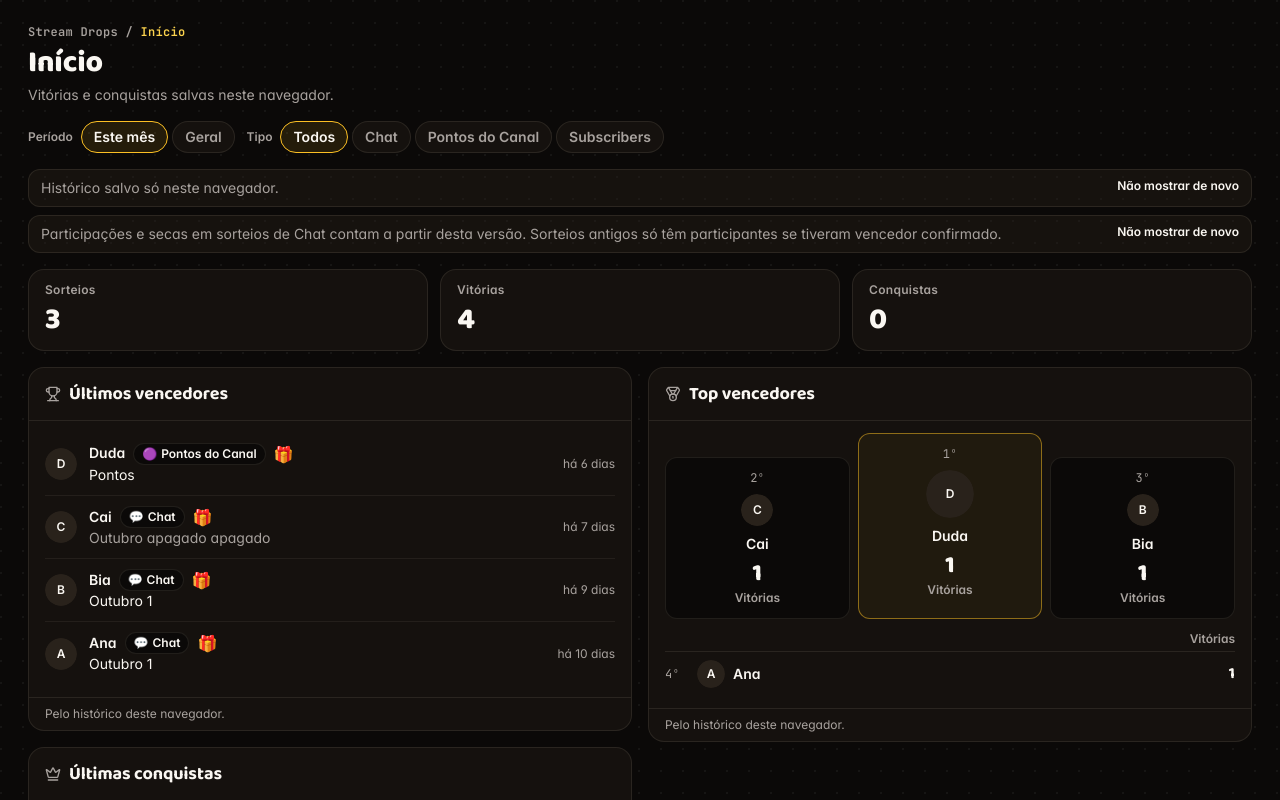
Dashboard v1 › CA-D49: o resumo respeita mês, geral e exclusão
expect the link "Duda" below "Últimos vencedores" is shown: met, box [89,443,125,464]
Click the button "Geral" at (203, 136), box [172,120,235,152]
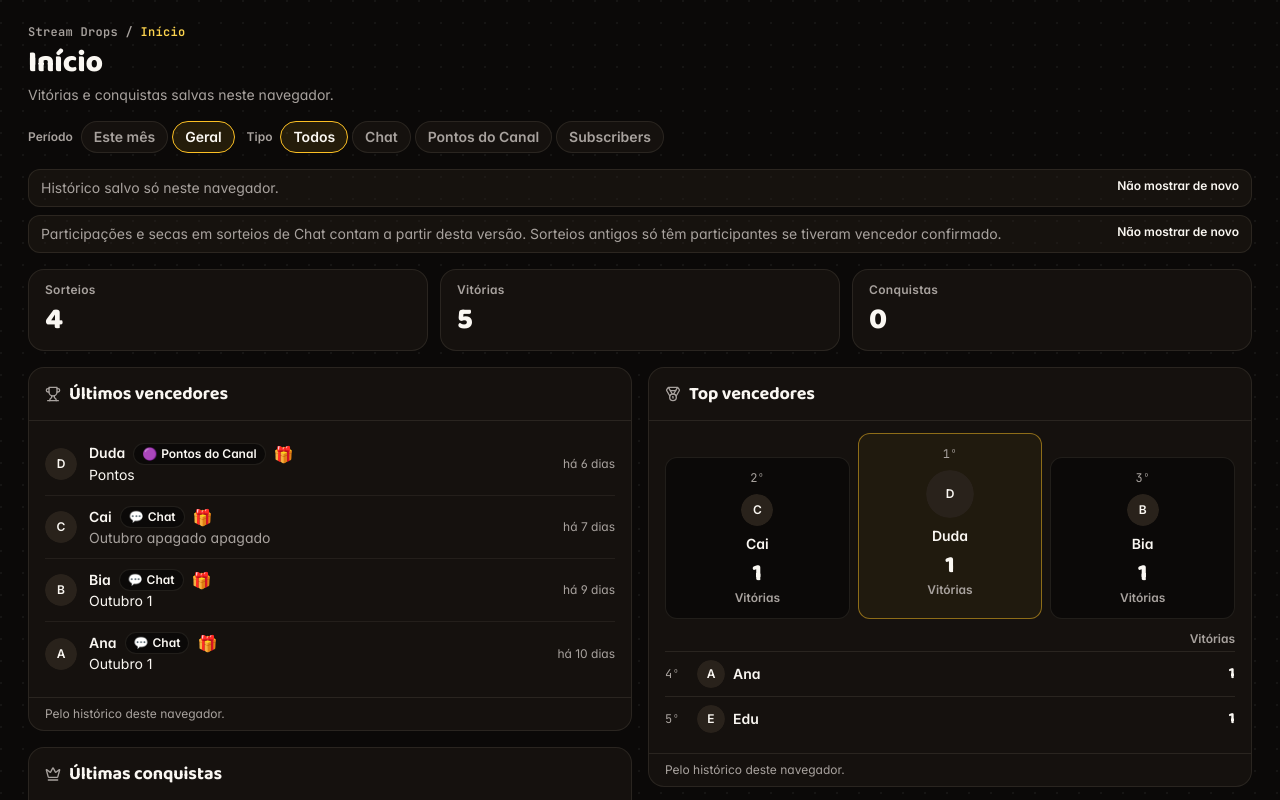
expect the text "Edu" is shown: met, box [733,709,759,729]
